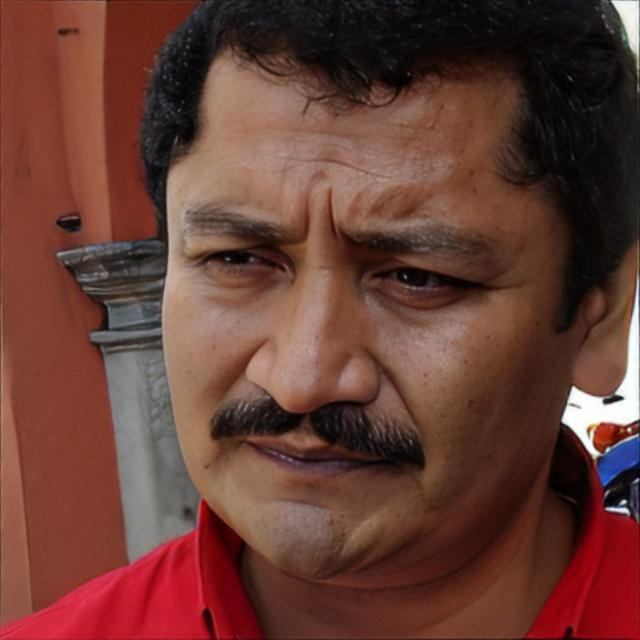anger: (158, 45, 564, 584)
